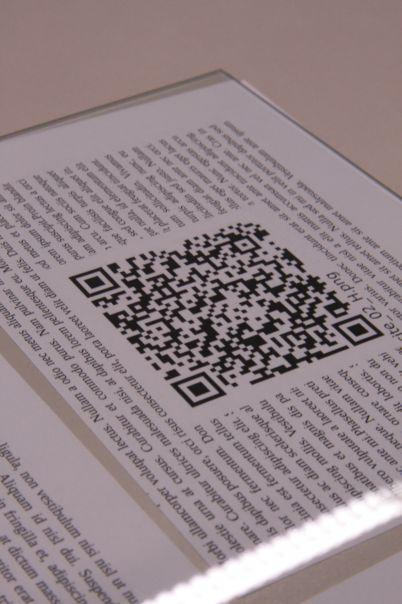Finder pattern: (169, 371, 227, 410), (67, 265, 125, 303), (330, 313, 386, 347)
